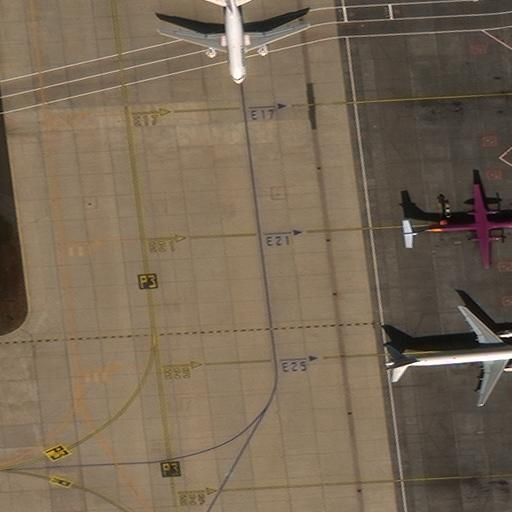Medium Civil Transport: (158, 0, 310, 84), (384, 305, 511, 404), (403, 184, 511, 267)
